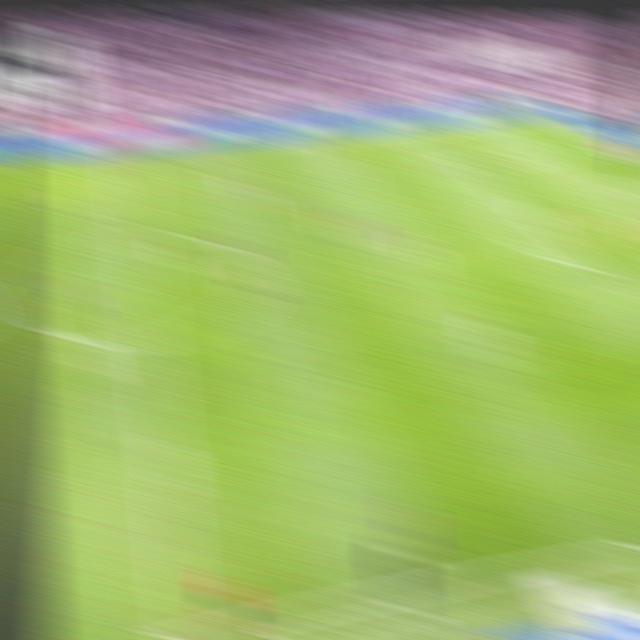bigarea_top_inner: (448, 153, 480, 173)
bigarea_top_outter: (582, 137, 616, 157)
bottom_arc_area_intersection: (583, 257, 616, 279)
corner: (524, 109, 555, 124)
halfcircle_bottom: (132, 322, 170, 358)
halfcircle_top: (120, 221, 158, 255)
midline_bottom_intersection: (162, 609, 206, 640)
midline_top_intersection: (113, 144, 146, 166)
smallarea_top_inner: (598, 177, 629, 195)
top_arc_area_intersection: (499, 193, 532, 214)
